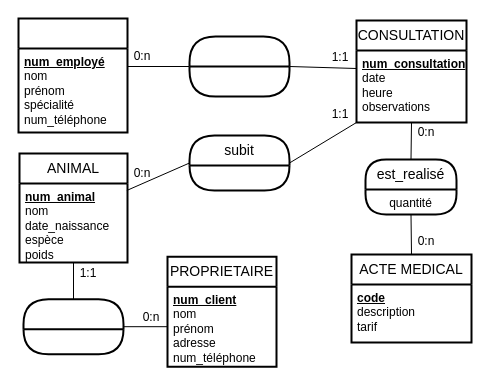
This 489x385 diagram has some shape labels left out. Here are the shapes that lost their labels. From the top down, the box of each, then its label:
(17, 17, 128, 133): VETERINAIRE
(188, 35, 290, 97): effectue
(22, 298, 124, 355): appartient
